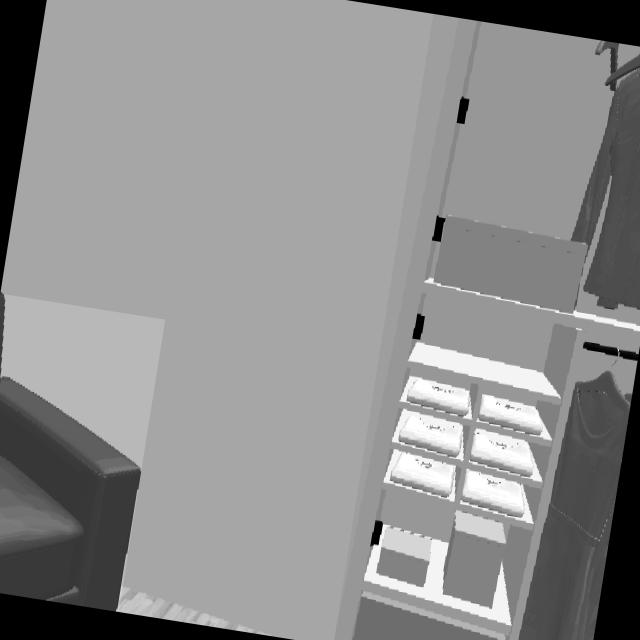sofa: (0, 294, 141, 612)
wardrobe: (334, 18, 640, 640)
